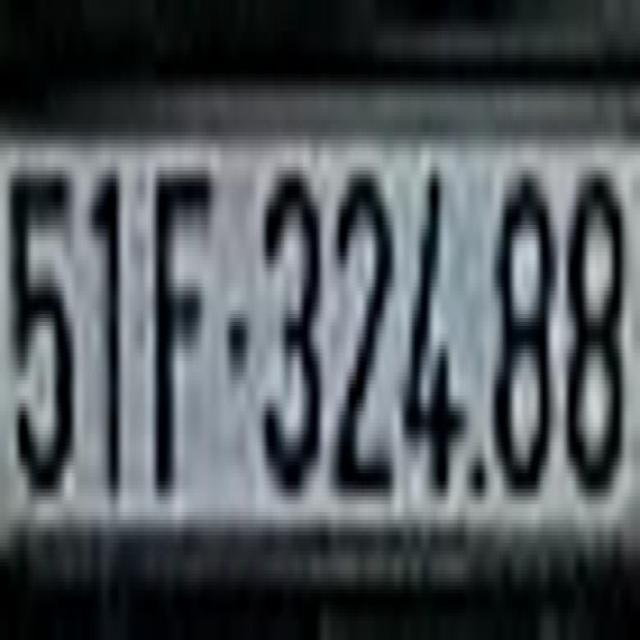1: (90, 155, 122, 493)
2: (337, 178, 396, 485)
3: (262, 159, 322, 489)
4: (404, 140, 458, 497)
5: (5, 155, 80, 493)
8: (567, 163, 621, 489), (496, 178, 550, 485)
F: (152, 151, 213, 512)
